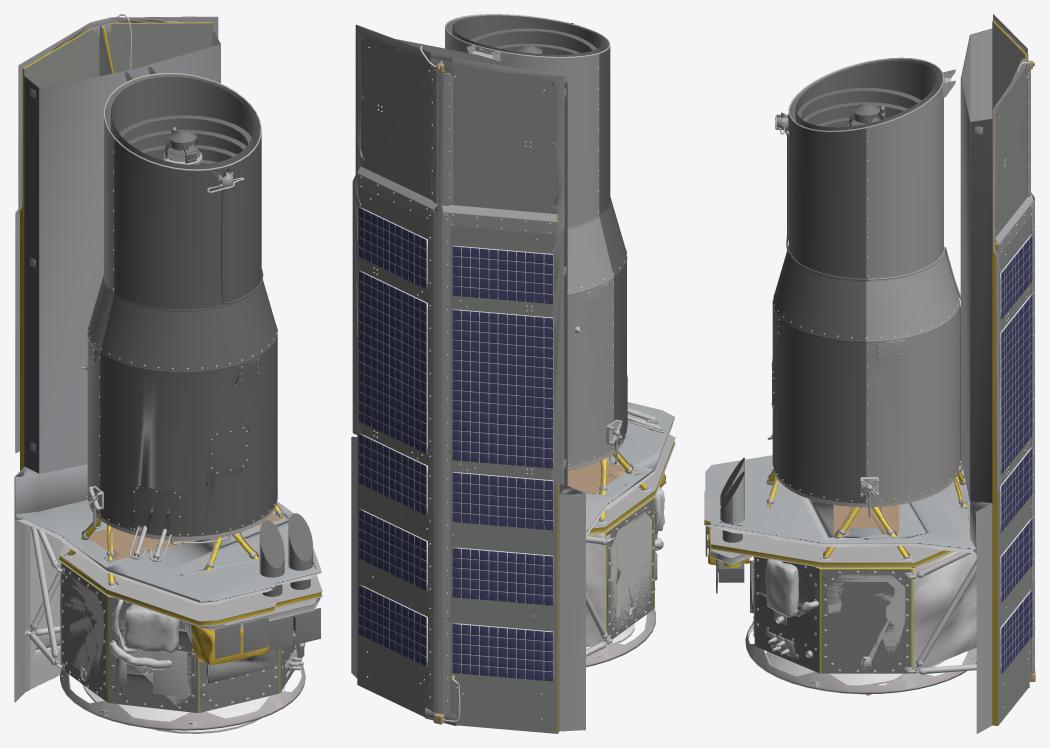
Rendered from space-spitzer.glb.
The picture shows the model from 3 angles, left to right: view 1: azimuth 30°, elevation 25°; view 2: azimuth 150°, elevation 25°; view 3: azimuth 270°, elevation 25°; orthographic projection. The views are drawn at different scales.
Parts seen in each view (by area): view 1: Fake; view 2: Fake; view 3: Fake.
Boxes of the visible parts, bbox=[...] form: Fake: bbox=[14, 14, 322, 733]; Fake: bbox=[351, 14, 675, 733]; Fake: bbox=[704, 14, 1035, 733].
Bounding box in the file's own units: 1.62 × 4.49 × 2.11.
1 material, 1 textured.
